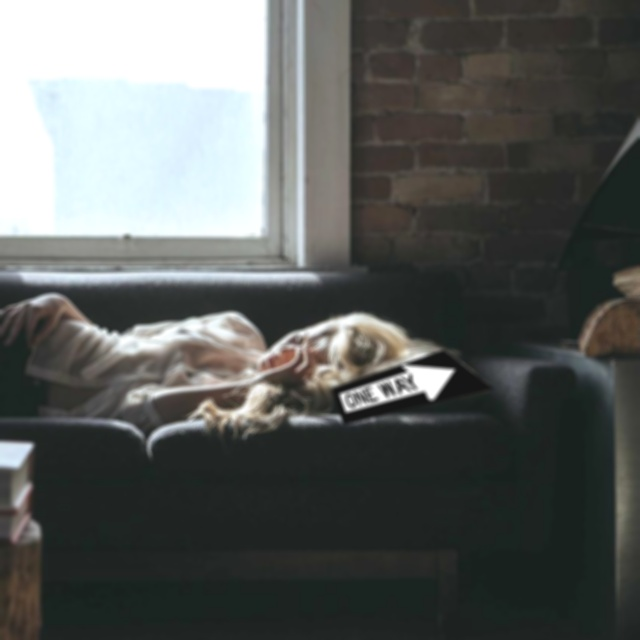ONE_WAY_ right: (331, 349, 495, 425)
